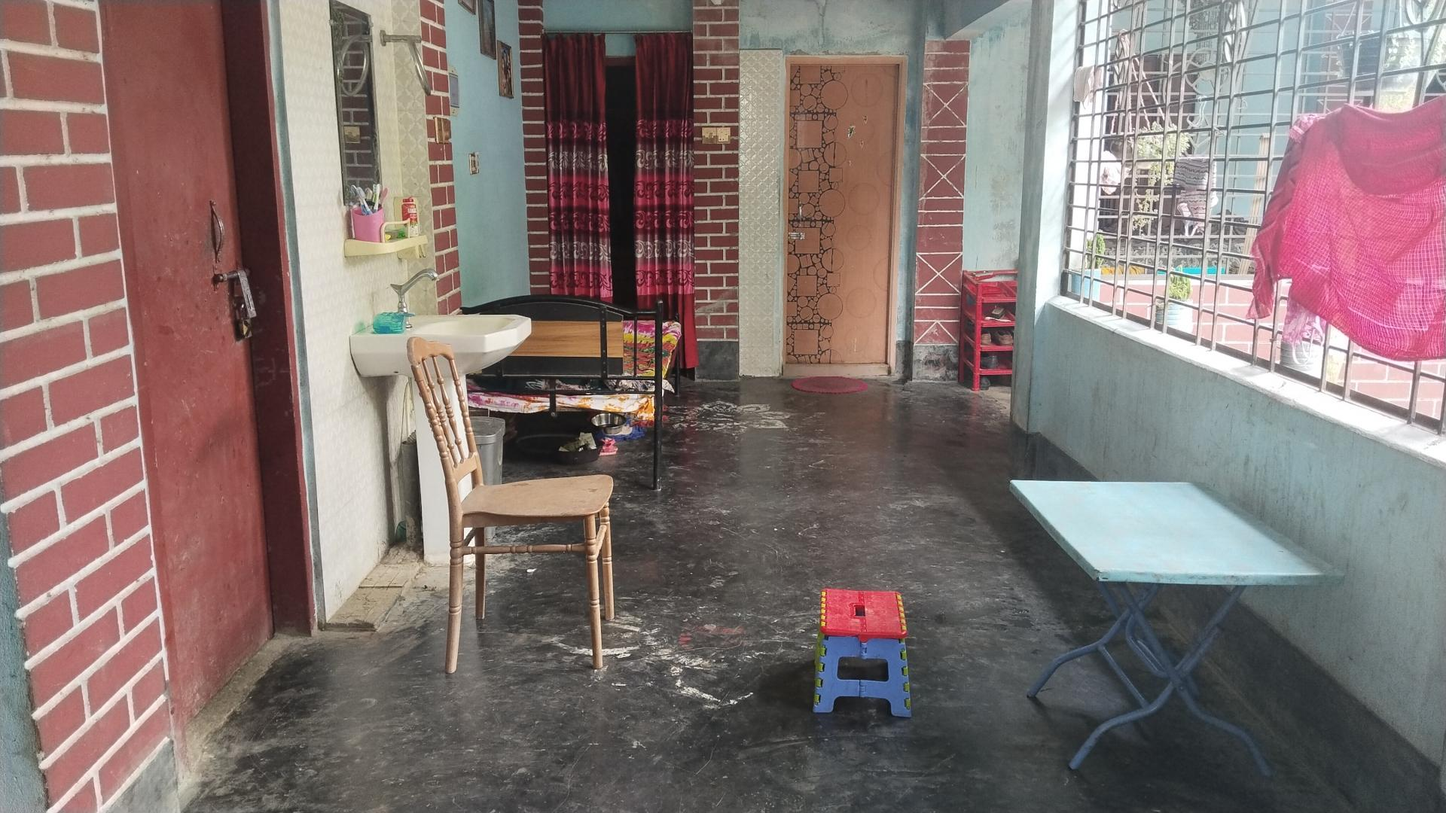Chair: (402, 337, 624, 676)
Door: (782, 58, 898, 369)
Stool: (816, 591, 911, 709)
Table: (1010, 481, 1353, 767)
